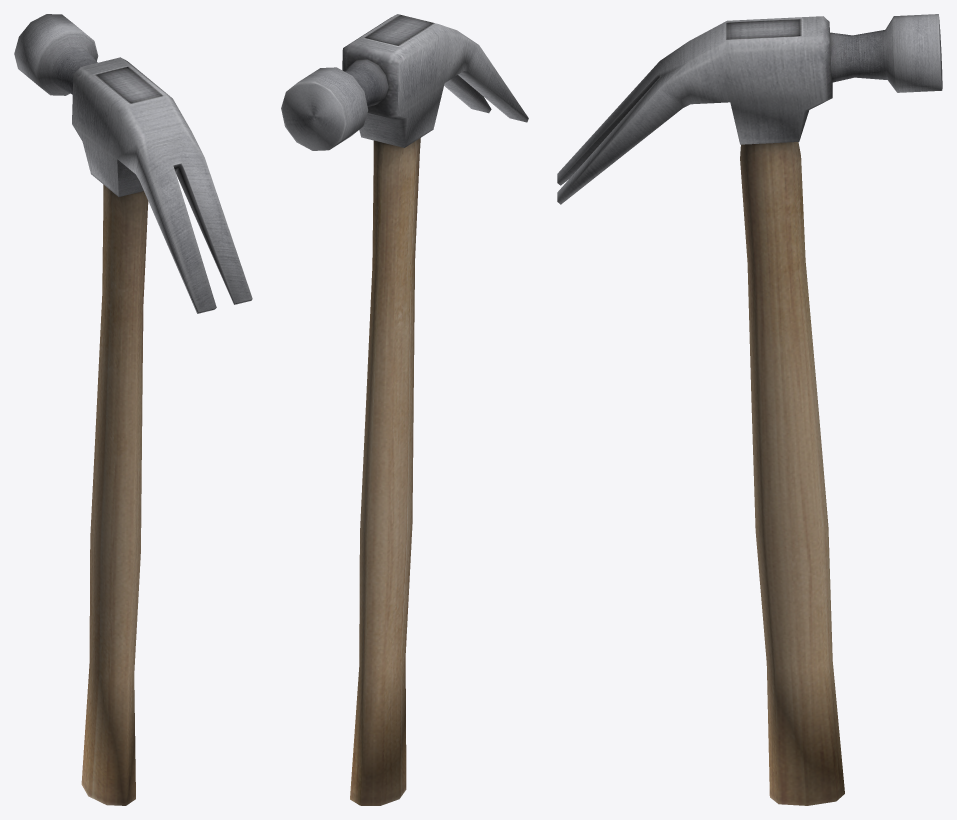
The model's file is langtou.obj.
3 renders of one model, left to right at view 1: azimuth 30°, elevation 25°; view 2: azimuth 150°, elevation 25°; view 3: azimuth 270°, elevation 25°, orthographic. The views are drawn at different scales.
Parts seen in each view (by area): view 1: _DC_L1; view 2: _DC_L1; view 3: _DC_L1.
Part boxes in pixels (x1,y1,x2,y2): _DC_L1: (14, 14, 252, 805); _DC_L1: (281, 14, 528, 805); _DC_L1: (557, 14, 942, 805).
Size of the model in its own units: 3.4 by 37.89 by 16.97.
